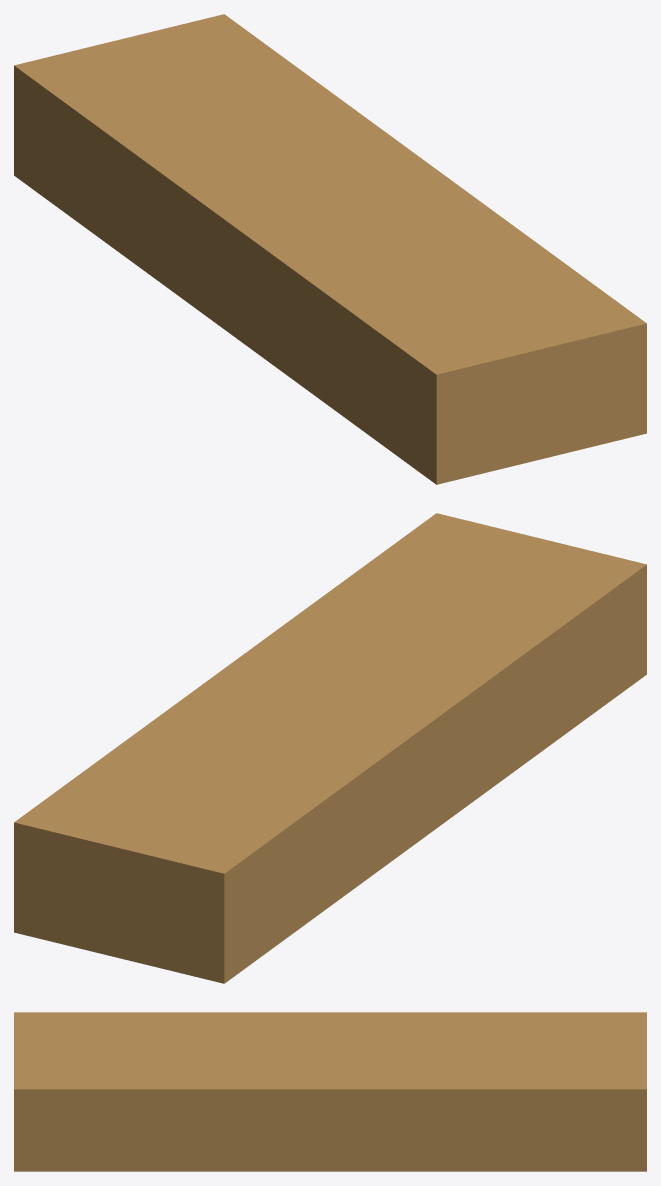
3 views of the same model, one above another, from view 1: azimuth 30°, elevation 25°; view 2: azimuth 150°, elevation 25°; view 3: azimuth 270°, elevation 25° (orthographic). The views are drawn at different scales.
Visible parts, largest first — view 1: RUN-022-S01-NOG-01; view 2: RUN-022-S01-NOG-01; view 3: RUN-022-S01-NOG-01.
Part boxes in pixels (x1,y1,x2,y2): RUN-022-S01-NOG-01: [14, 14, 646, 484]; RUN-022-S01-NOG-01: [14, 513, 646, 983]; RUN-022-S01-NOG-01: [14, 1012, 646, 1171].
Bounding box in the file's own units: 0.09 × 0.045 × 0.3131.
